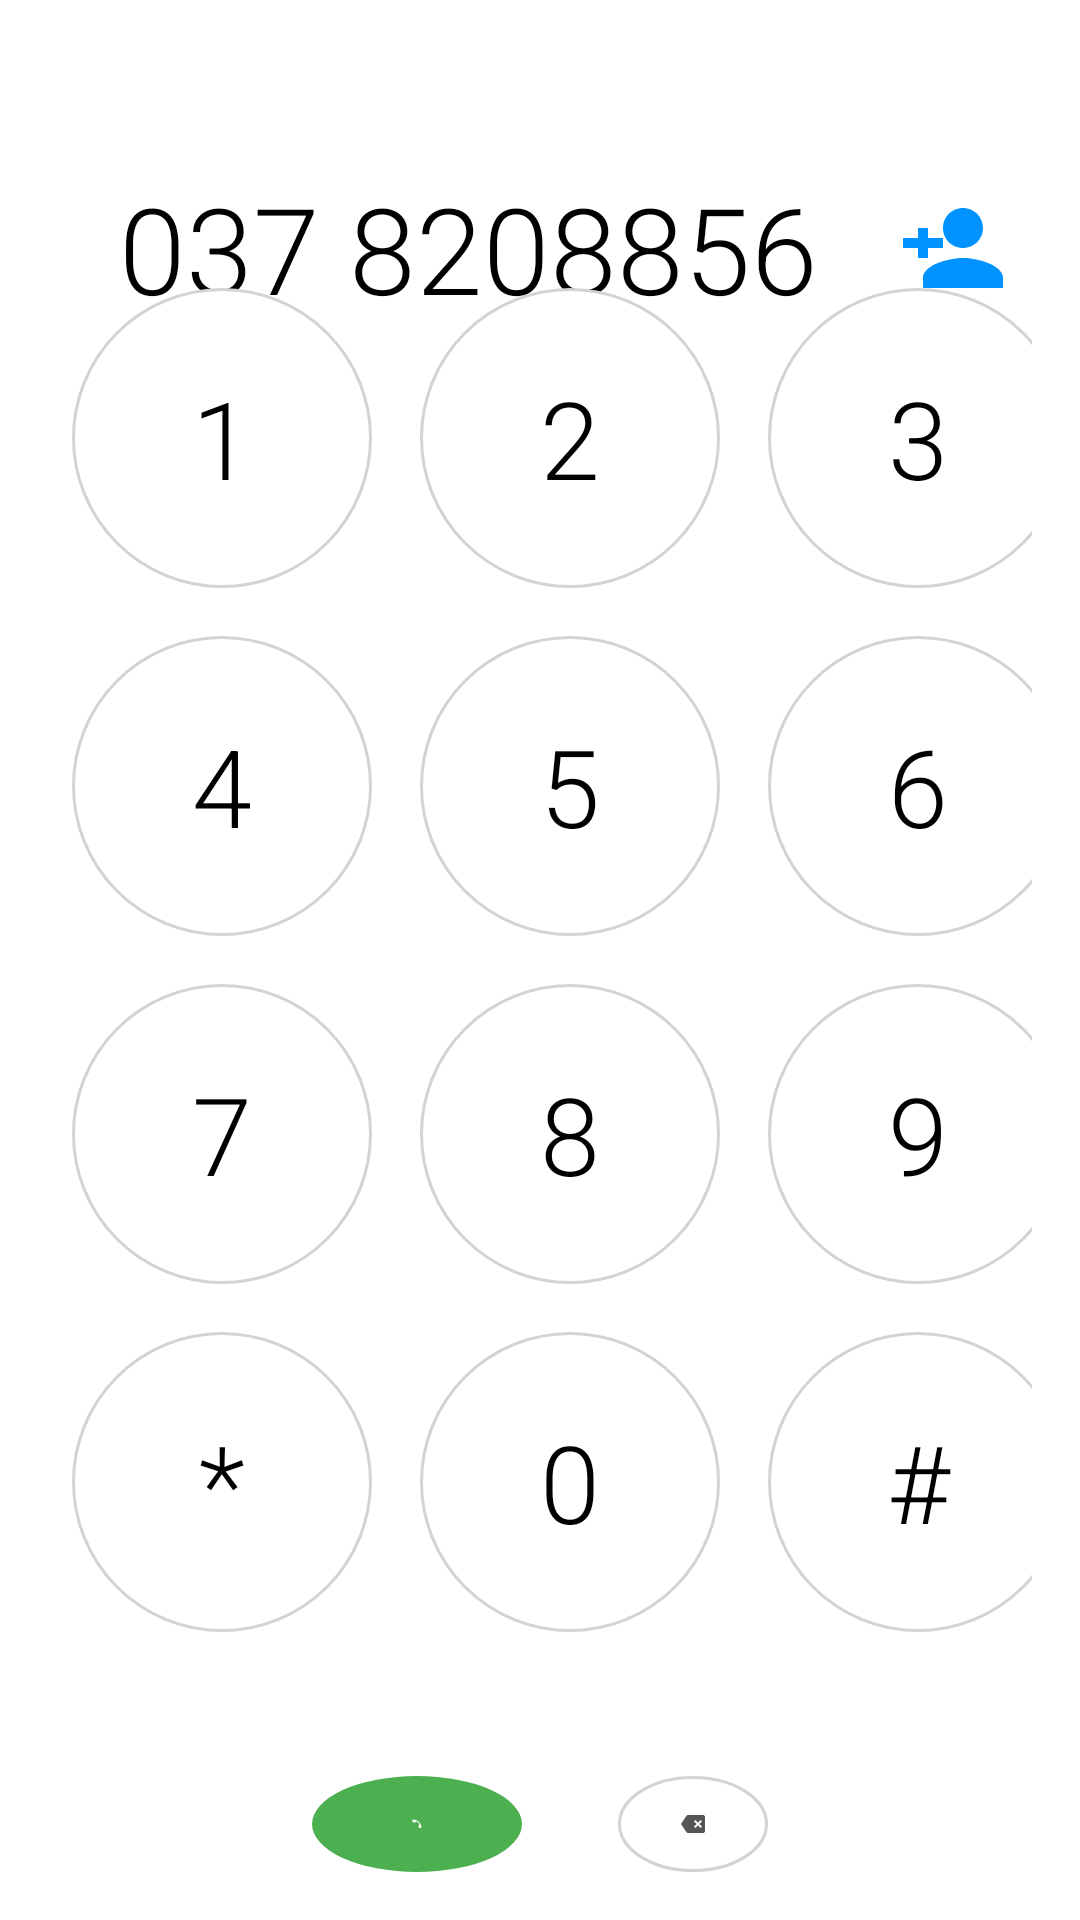

Where icons sit on this 1080x1920 app screen, as (x1, y1, x2, y2):
Add Contact: (888, 208, 1003, 308)
Backspace: (618, 1776, 768, 1872)
